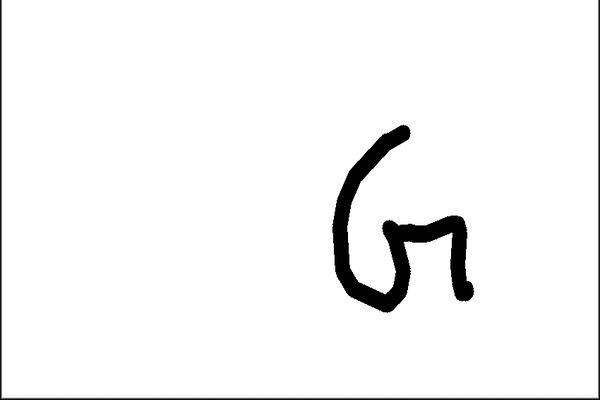G: (326, 118, 478, 316)
